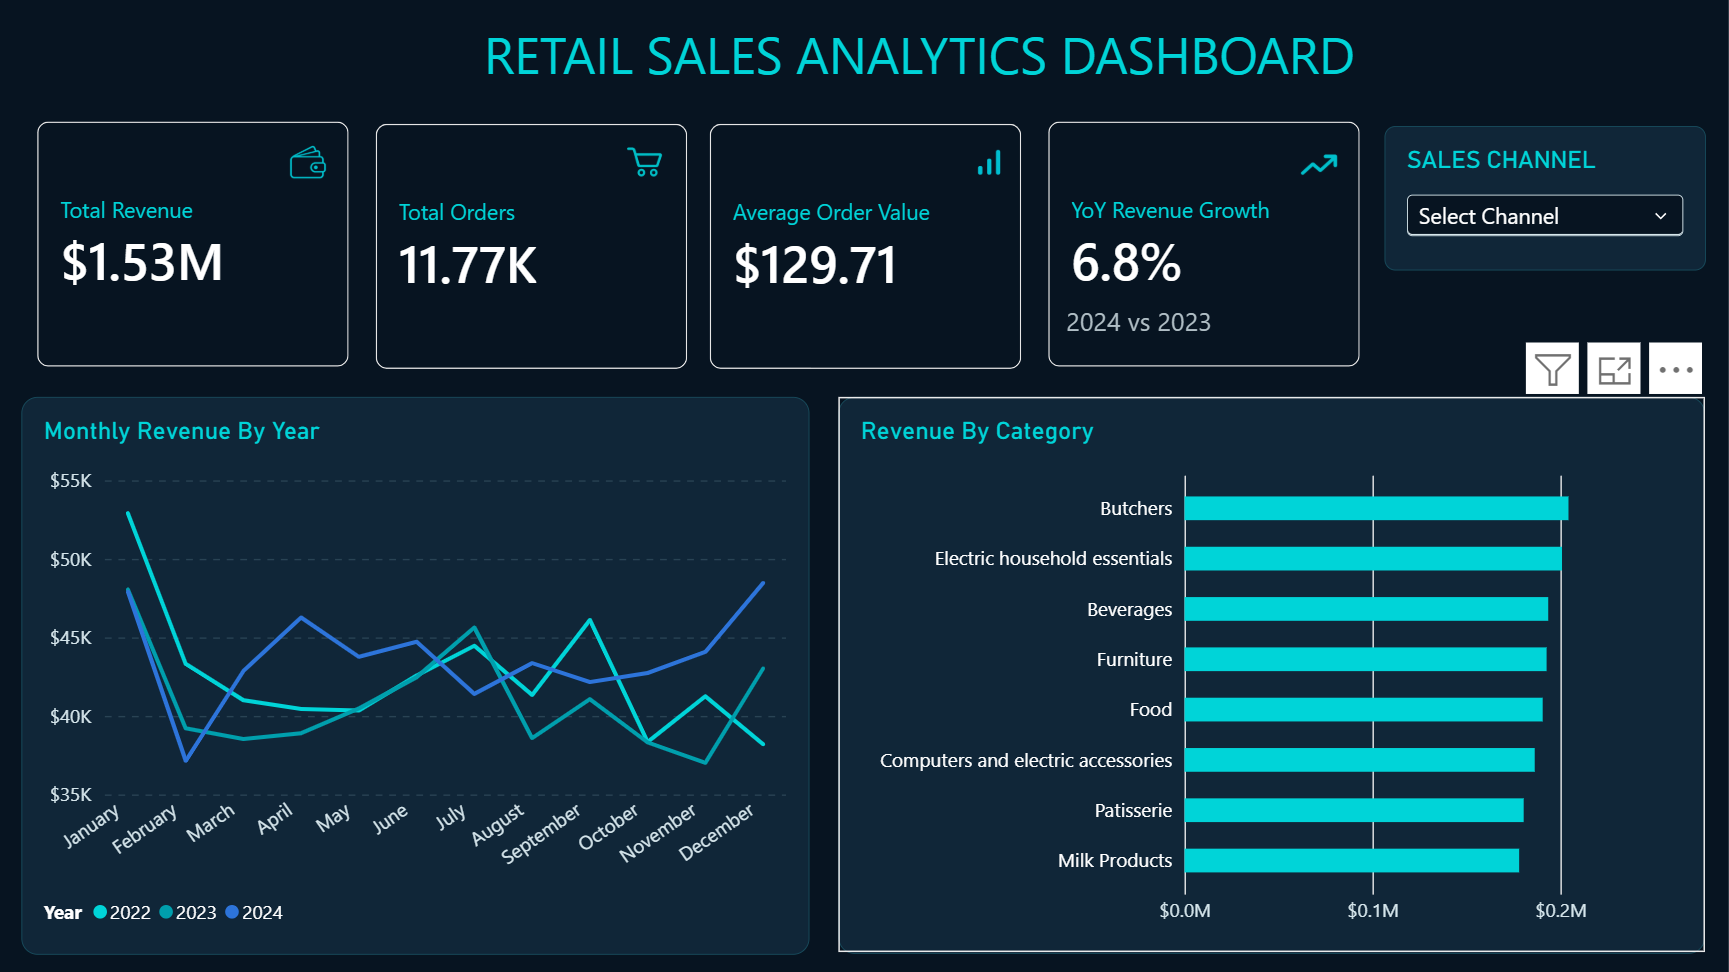

Layout of this report page (visuals, bound fields, positions):
{"tool":"powerbi","page":{"name":"Sales Overview","canvas":[1280,720],"ordinal":0},"visuals":[{"type":"cardVisual","fields":{"Data":["Sum(cleaned_retail_sales.Total Spent)"]},"box":[30.2,90.7,230.6,181],"z":0},{"type":"cardVisual","fields":{"Data":["cleaned_retail_sales.Total Orders Display"]},"box":[279.9,92.3,230.6,181.3],"z":1000},{"type":"clusteredBarChart","title":"Revenue By Category","fields":{"Category":["cleaned_retail_sales.Category"],"Y":["Sum(cleaned_retail_sales.Total Spent)"]},"box":[621.9,292.7,640,411.4],"z":2000},{"type":"lineChart","title":"Monthly Revenue By Year","fields":{"Category":["cleaned_retail_sales.Transaction Date.Variation.Date Hierarchy.Month"],"Series":["cleaned_retail_sales.Year"],"Y":["Sum(cleaned_retail_sales.Total Spent)"]},"box":[19.1,292.7,582.2,412],"z":3000},{"type":"listSlicer","title":"SALES CHANNEL","fields":{"Values":["cleaned_retail_sales.Location"]},"box":[1024.4,93.8,237,106.6],"z":4000},{"type":"cardVisual","fields":{"Data":["cleaned_retail_sales.Average Order Value"]},"box":[526.5,92.3,230.6,181.3],"z":5000},{"type":"textbox","box":[0,14.3,1278.9,58.9],"z":6000},{"type":"image","box":[214.7,105,30,30],"z":7000},{"type":"image","box":[450.1,90.7,60,60],"z":8000},{"type":"image","box":[707.8,95.4,50,50],"z":9000},{"type":"cardVisual","fields":{"Data":["cleaned_retail_sales.YoY Revenue Growth"]},"box":[776.2,90.7,230.6,181.3],"z":10000},{"type":"image","box":[946.4,92.3,60,60],"z":11000},{"type":"textbox","box":[790.5,224.3,155.9,35],"z":12000}]}

Visuals, with their boxes in screenshot pixels (x1, y1, x2, y2), scaled from the page's 1280x720 canvas onto the 1729x972 screenshot:
cardVisual - Sum(cleaned_retail_sales.Total Spent): x1=41 y1=122 x2=352 y2=367
cardVisual - cleaned_retail_sales.Total Orders Display: x1=378 y1=125 x2=690 y2=369
"Revenue By Category" clusteredBarChart: x1=840 y1=395 x2=1705 y2=951
"Monthly Revenue By Year" lineChart: x1=26 y1=395 x2=812 y2=951
"SALES CHANNEL" listSlicer: x1=1384 y1=127 x2=1704 y2=271
cardVisual - cleaned_retail_sales.Average Order Value: x1=711 y1=125 x2=1023 y2=369
textbox: x1=0 y1=19 x2=1728 y2=99
image: x1=290 y1=142 x2=331 y2=182
image: x1=608 y1=122 x2=689 y2=203
image: x1=956 y1=129 x2=1024 y2=196
cardVisual - cleaned_retail_sales.YoY Revenue Growth: x1=1048 y1=122 x2=1360 y2=367
image: x1=1278 y1=125 x2=1359 y2=206
textbox: x1=1068 y1=303 x2=1278 y2=350
